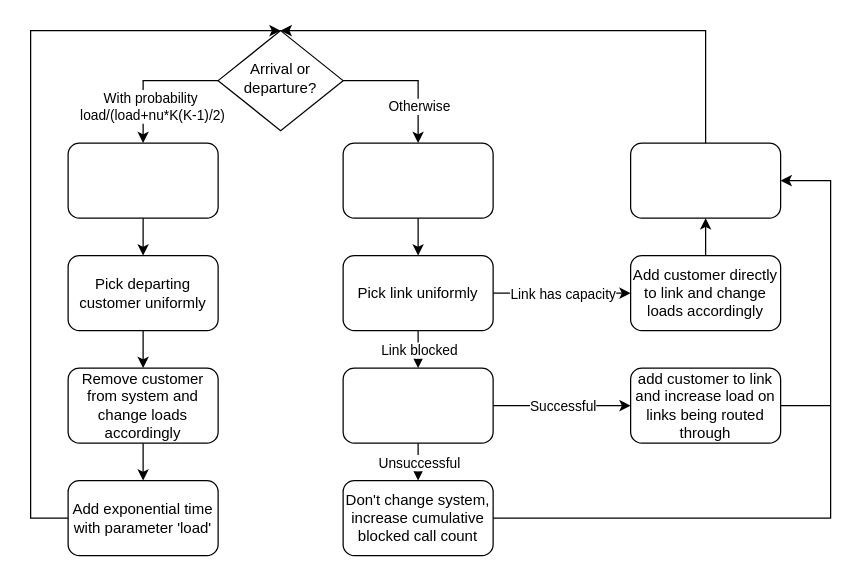
Some shapes in this 863 by 578 pixel diagram are drawn without their labels. Here are the shapes that lost their labels. From the top down, the box of each, then its label:
(67, 142, 218, 218): Departure
(342, 142, 493, 218): Arrival
(629, 142, 781, 218): add exponential time with parameter nu*K(K-1)/2
(342, 367, 493, 443): Pick other vertex uniformly to route calls through
